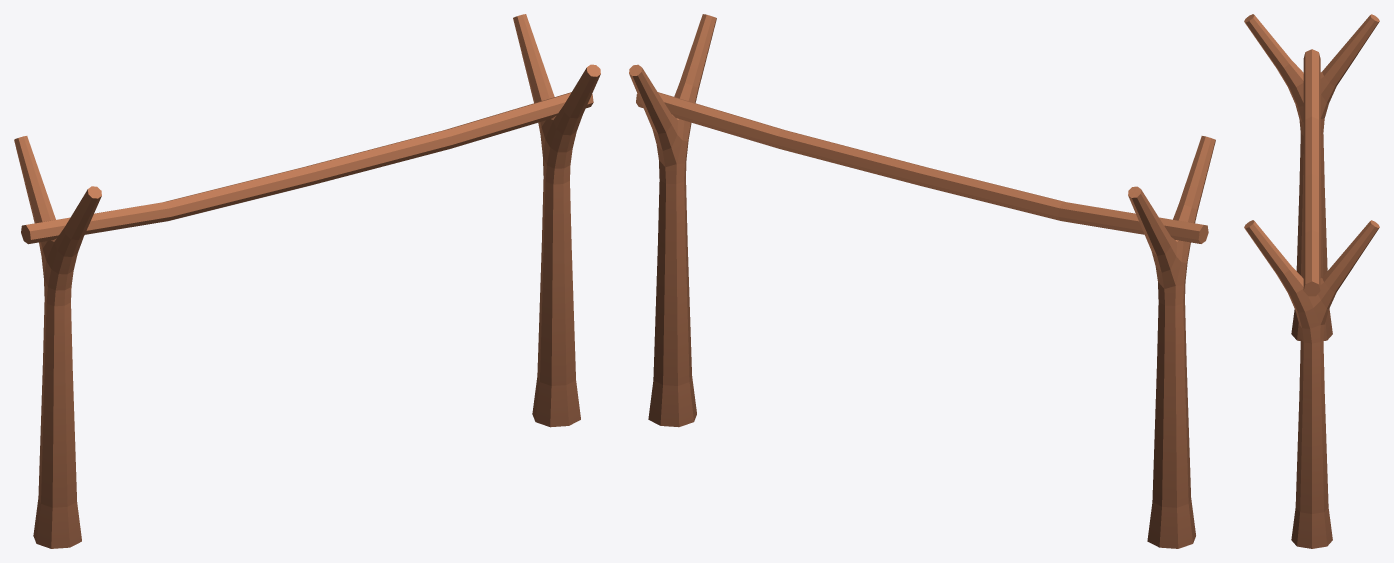
Rendered from wooden pendant.fbx.
3 views of the same model, side by side, from view 1: azimuth 30°, elevation 25°; view 2: azimuth 150°, elevation 25°; view 3: azimuth 270°, elevation 25° (orthographic). The views are drawn at different scales.
Visible parts, largest first — view 1: wooden pendant; view 2: wooden pendant; view 3: wooden pendant.
Part boxes in pixels (x1=…): wooden pendant: x1=14, y1=14, x2=600, y2=548; wooden pendant: x1=629, y1=14, x2=1215, y2=548; wooden pendant: x1=1244, y1=14, x2=1379, y2=548.
Bounding box in the file's own units: 227 × 145 × 56.03.
